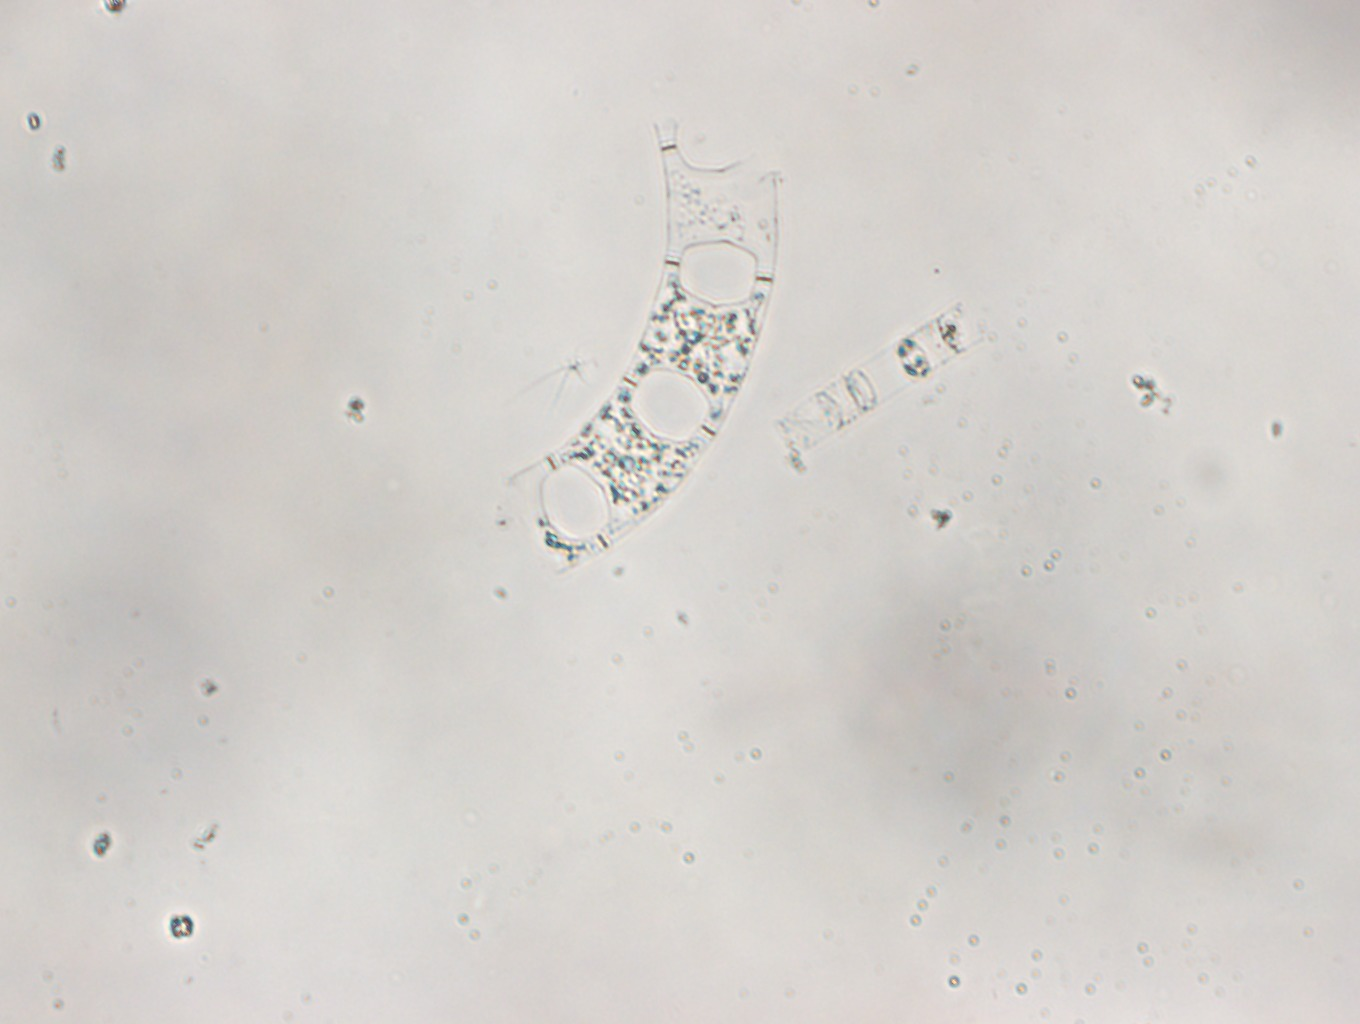eucampia: (504, 113, 779, 580)
skeletonema: (781, 303, 983, 449)
